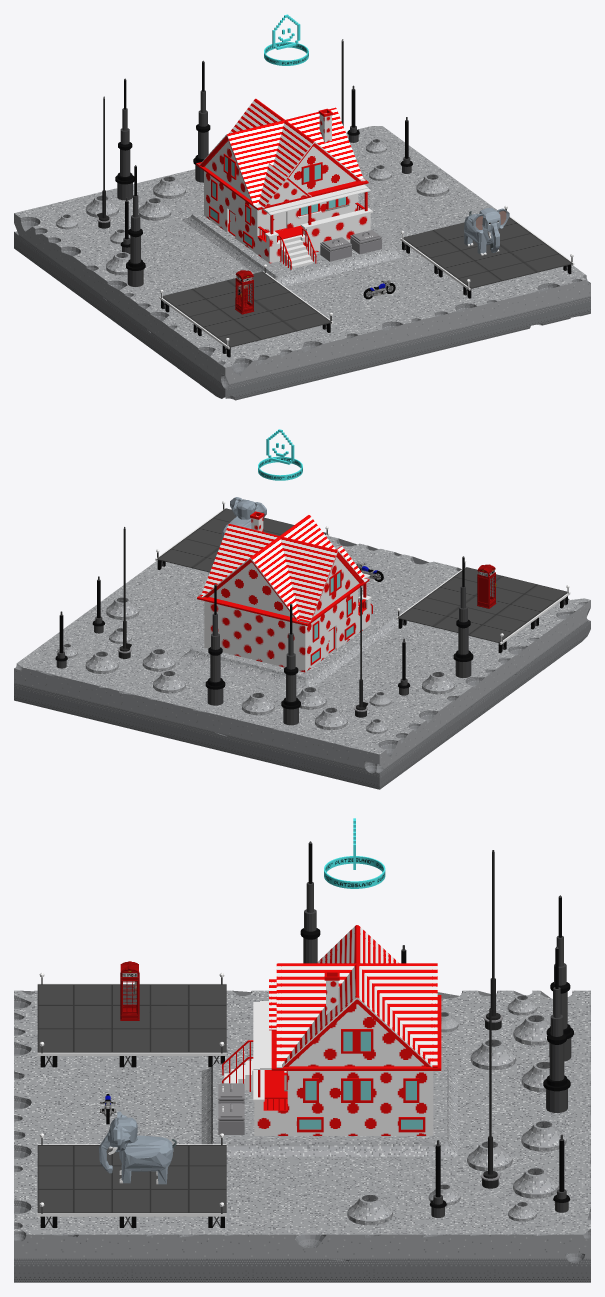
3 views of the same model, one above another, from view 1: azimuth 30°, elevation 25°; view 2: azimuth 150°, elevation 25°; view 3: azimuth 270°, elevation 25° (orthographic). The views are drawn at different scales.
Visible parts, largest first — view 1: Cube.027, Cube.196, Cube.025, Cube.026, Cube.028, ANIMAL_ELEFANTE, Cylinder.021, Cylinder.020, Cylinder.017, TYPE_PREMIUM, OBJRANDOM_PHONEBOOTH, Cube.029 (+4 smaller); view 2: Cube.027, Cube.196, Cube.025, Cube.028, Cube.026, Cylinder.017, Cylinder.021, Cylinder.020, TYPE_PREMIUM, ANIMAL_ELEFANTE, OBJRANDOM_PHONEBOOTH, Cylinder.030 (+8 smaller); view 3: Cube.027, Cube.196, Cube.025, Cube.026, Cube.028, ANIMAL_ELEFANTE, Cylinder.017, Cylinder.020, Cylinder.021, TYPE_PREMIUM, Cylinder.033, Cylinder.031 (+11 smaller).
Part boxes in pixels (left/top/right/bottom): Cube.027: left=14, top=126, right=590, bottom=400; Cube.196: left=196, top=98, right=372, bottom=269; Cube.025: left=159, top=264, right=333, bottom=357; Cube.026: left=400, top=205, right=574, bottom=298; Cube.028: left=182, top=211, right=403, bottom=286; ANIMAL_ELEFANTE: left=464, top=208, right=509, bottom=255; Cylinder.021: left=126, top=165, right=145, bottom=286; Cylinder.020: left=115, top=78, right=134, bottom=200; Cylinder.017: left=193, top=60, right=210, bottom=182; TYPE_PREMIUM: left=264, top=14, right=308, bottom=65; OBJRANDOM_PHONEBOOTH: left=235, top=270, right=254, bottom=314; Cube.029: left=320, top=237, right=351, bottom=261; Cube.027: left=14, top=536, right=590, bottom=789; Cube.196: left=197, top=511, right=372, bottom=672; Cube.025: left=396, top=560, right=570, bottom=653; Cube.028: left=181, top=610, right=398, bottom=688; Cube.026: left=155, top=501, right=329, bottom=572; Cylinder.017: left=205, top=583, right=225, bottom=705; Cylinder.021: left=453, top=556, right=473, bottom=677; Cylinder.020: left=281, top=603, right=300, bottom=725; TYPE_PREMIUM: left=258, top=429, right=302, bottom=480; ANIMAL_ELEFANTE: left=221, top=497, right=266, bottom=540; OBJRANDOM_PHONEBOOTH: left=477, top=564, right=496, bottom=608; Cylinder.030: left=142, top=648, right=175, bottom=671; Cube.027: left=14, top=990, right=590, bottom=1282; Cube.196: left=222, top=925, right=441, bottom=1135; Cube.025: left=37, top=973, right=226, bottom=1067; Cube.026: left=37, top=1133, right=226, bottom=1227; Cube.028: left=201, top=1063, right=457, bottom=1156; ANIMAL_ELEFANTE: left=99, top=1111, right=176, bottom=1184; Cylinder.017: left=543, top=946, right=570, bottom=1112; Cylinder.020: left=546, top=895, right=573, bottom=1061; Cylinder.021: left=300, top=841, right=320, bottom=963; TYPE_PREMIUM: left=324, top=818, right=385, bottom=888; Cylinder.033: left=347, top=1194, right=392, bottom=1225; Cylinder.031: left=513, top=1167, right=558, bottom=1198.
Bounding box in the file's own units: 4000 × 2804 × 4000.
Materials: 38 (6 with a texture image).
